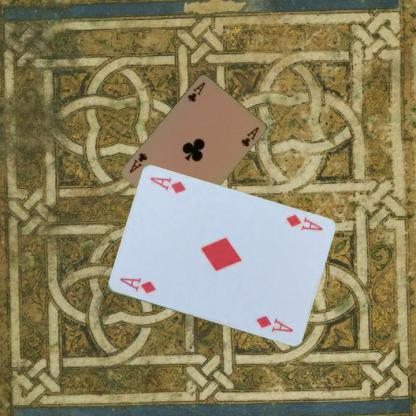Ac: (185, 79, 206, 103)
Ad: (283, 212, 324, 232), (116, 275, 156, 295)
